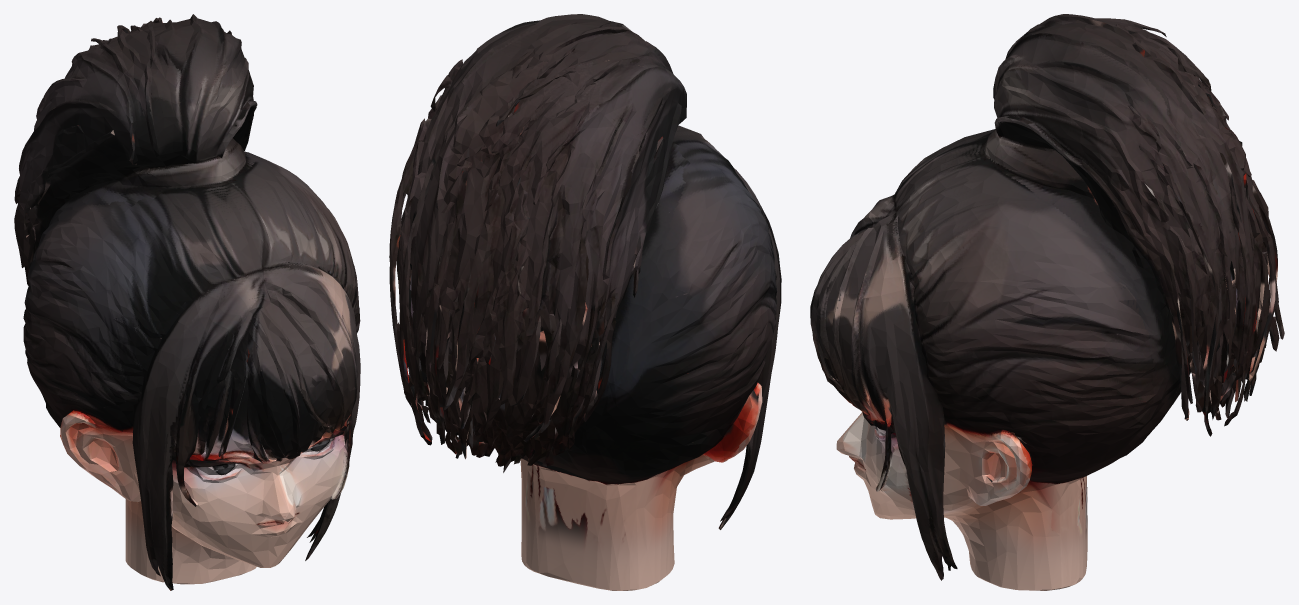
The model's file is side_atsuko_repaired_atlas.glb.
3 views of the same model, side by side, from view 1: azimuth 30°, elevation 25°; view 2: azimuth 150°, elevation 25°; view 3: azimuth 270°, elevation 25° (orthographic). The views are drawn at different scales.
Visible parts, largest first — view 1: temp_mesh.ply; view 2: temp_mesh.ply; view 3: temp_mesh.ply.
Part boxes in pixels (bbox=[...]): temp_mesh.ply: bbox=[14, 14, 360, 590]; temp_mesh.ply: bbox=[389, 14, 781, 590]; temp_mesh.ply: bbox=[810, 14, 1284, 590].
Bounding box in the file's own units: 1.21 × 1.97 × 1.59.
Materials: 1 (1 with a texture image).
